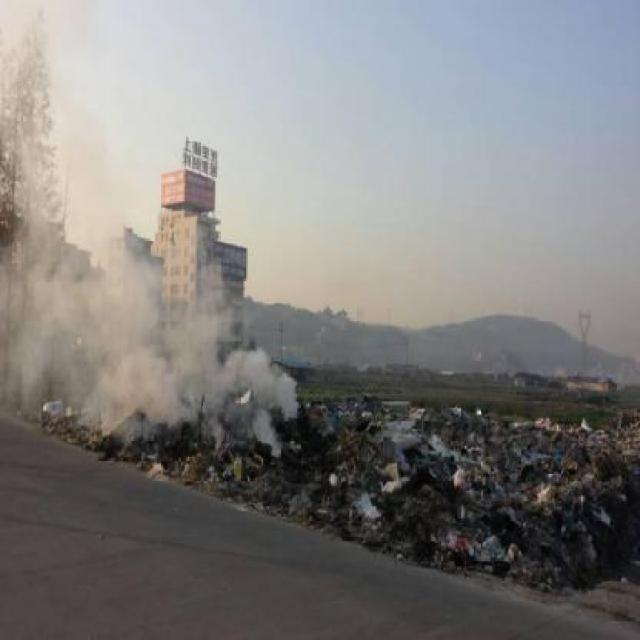garbage: (425, 405, 599, 568)
